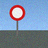sign: (10, 5, 25, 36)
